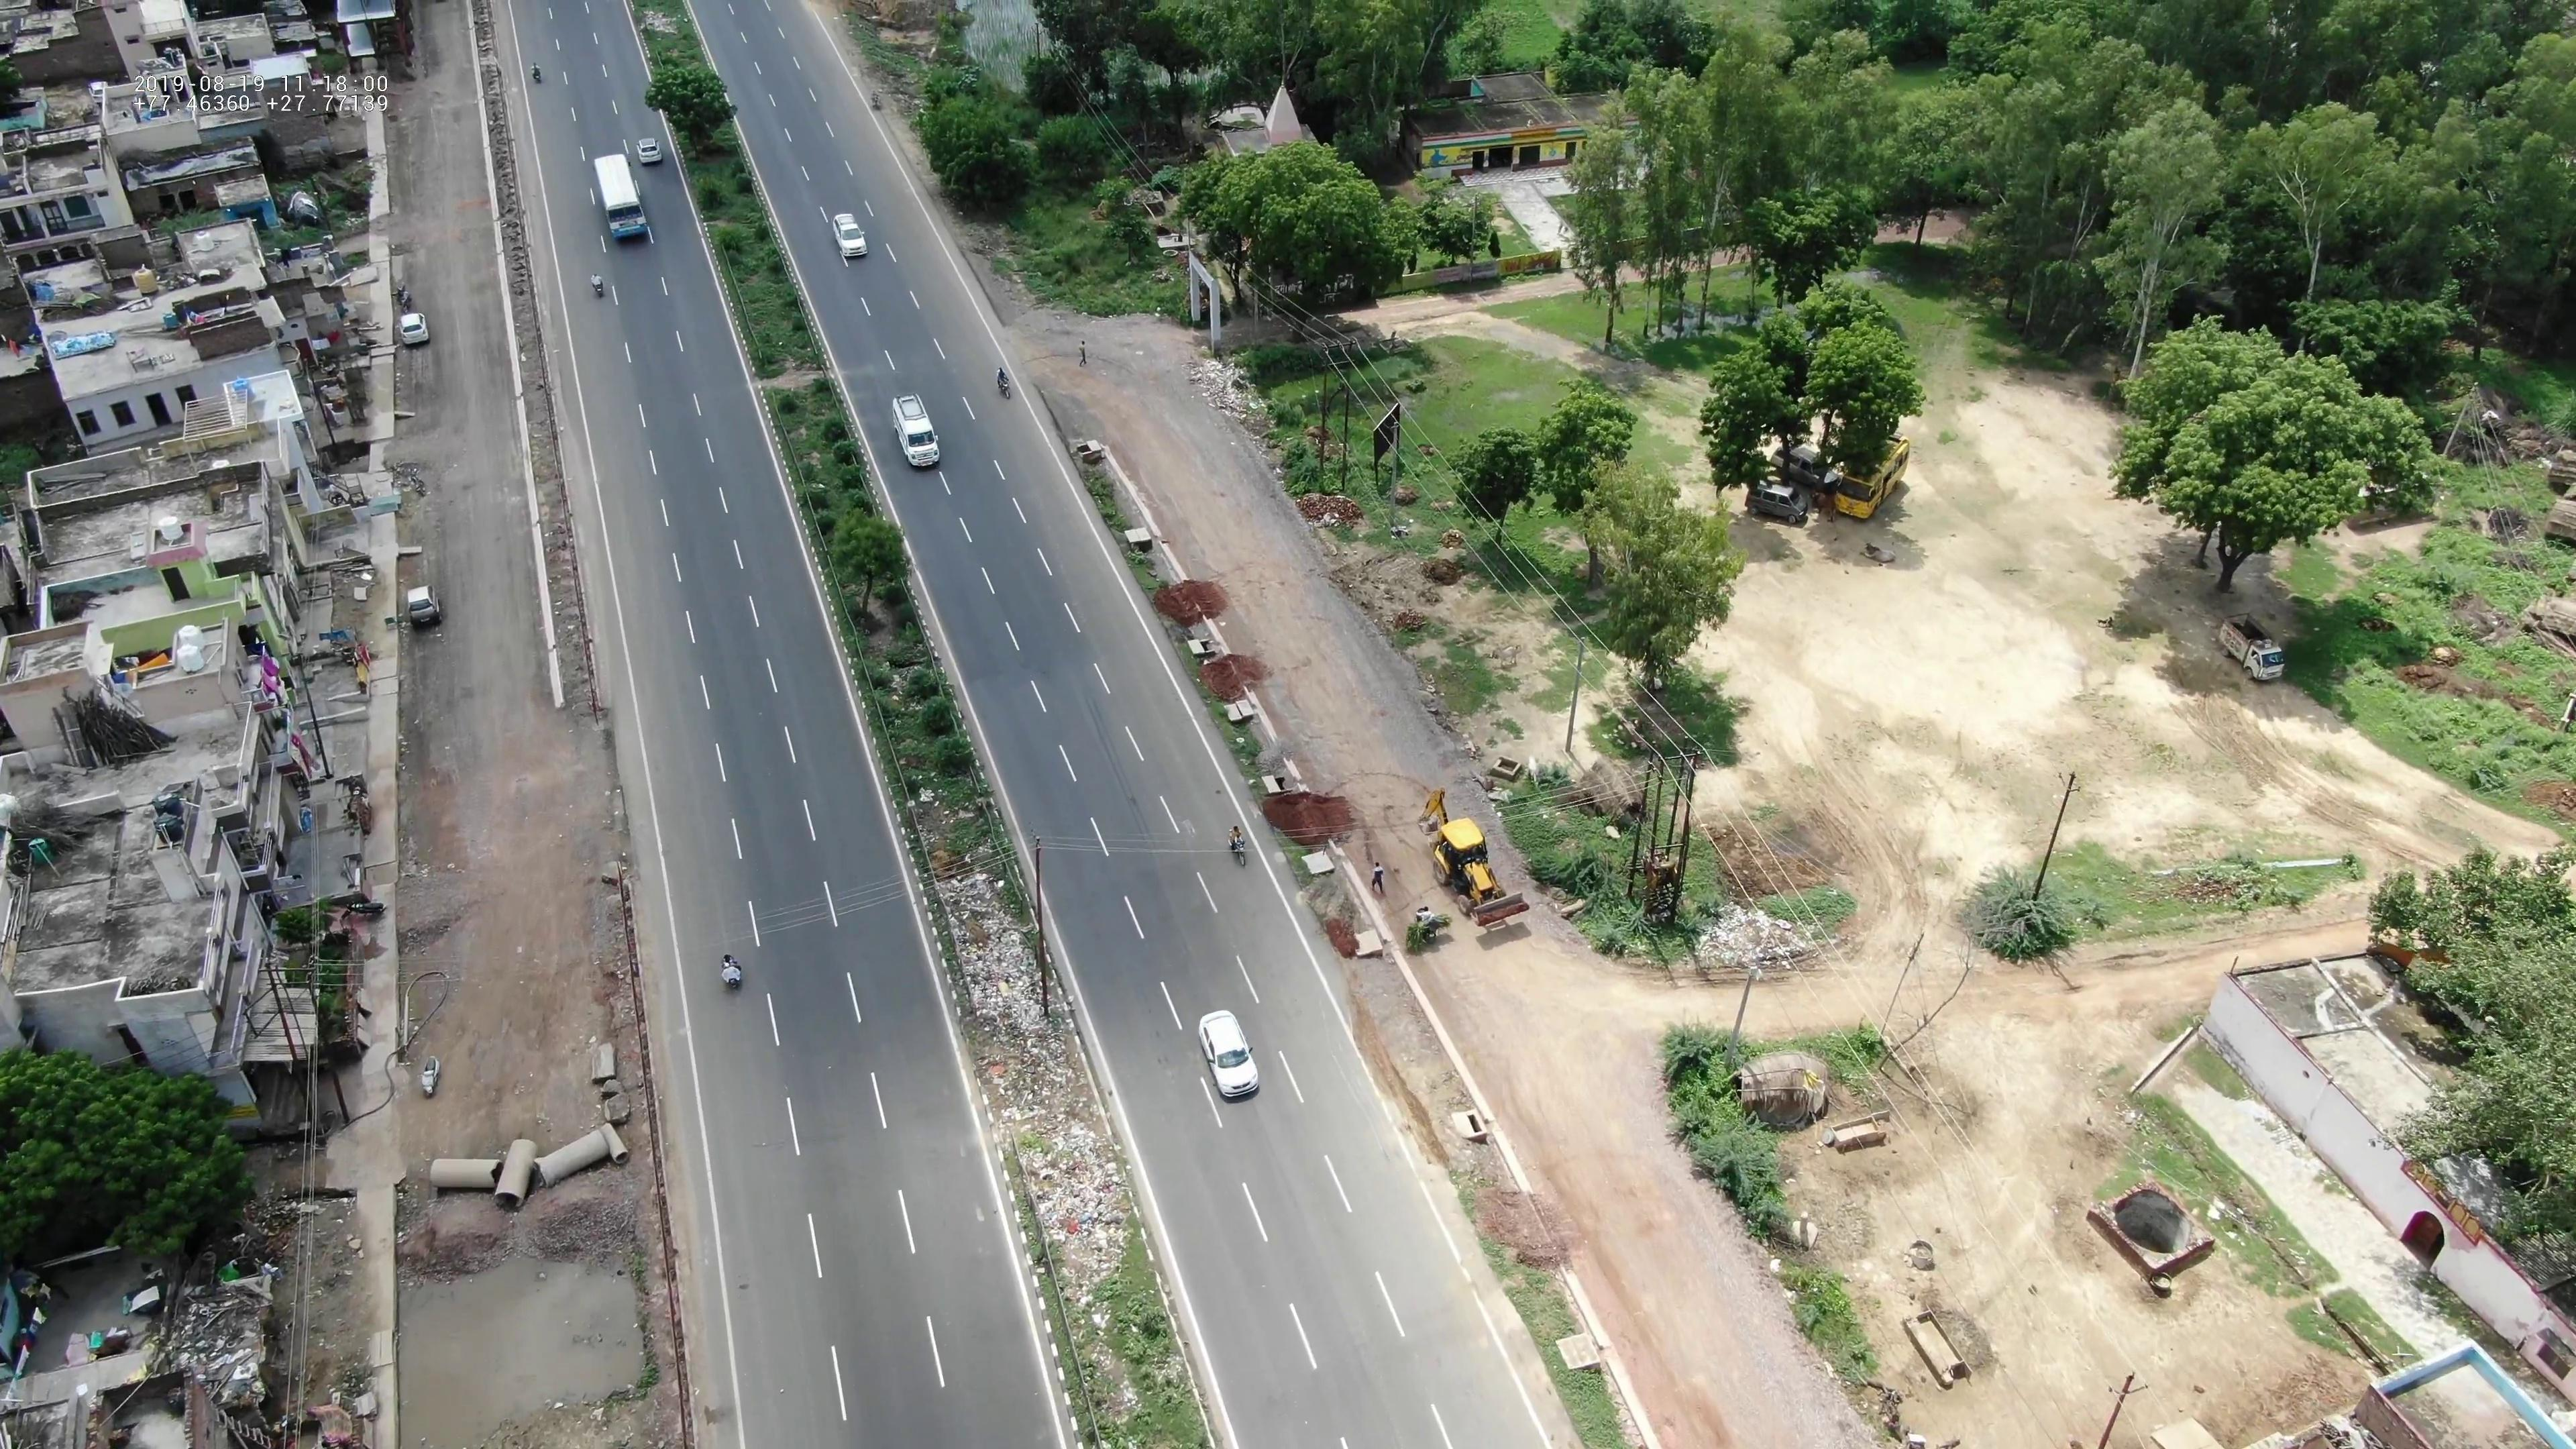Road_side_garbage: (943, 888, 1051, 1056), (1016, 1129, 1129, 1263)
